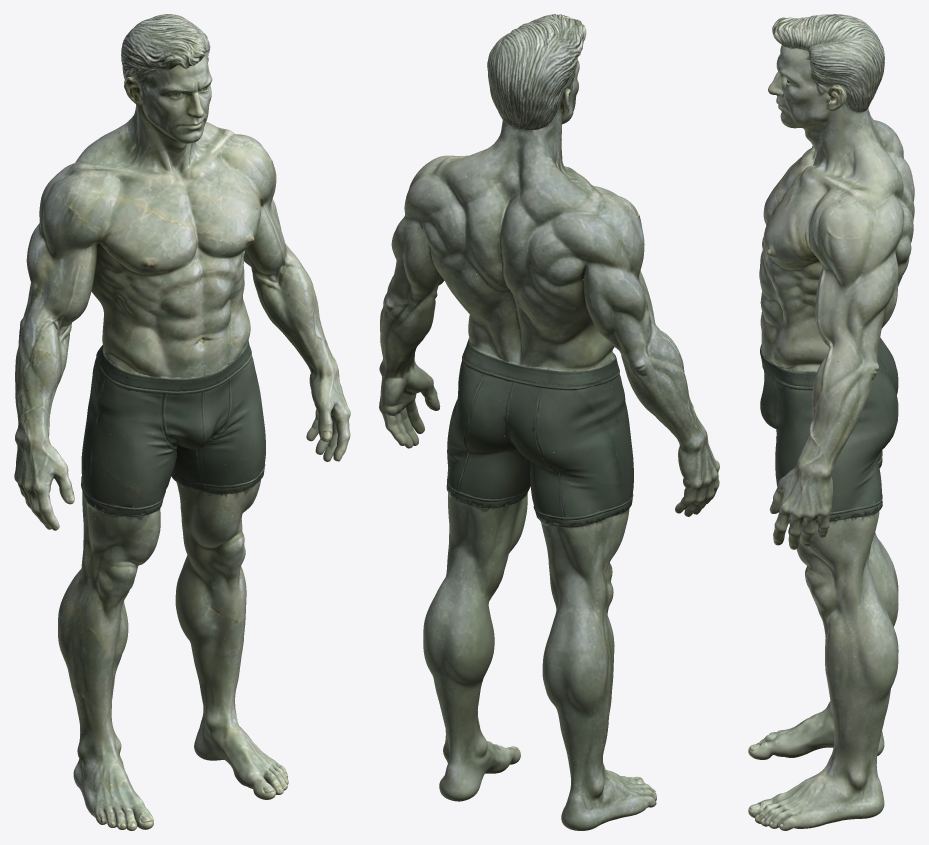
The model's file is adult-male-v4.glb.
3 renders of one model, left to right at view 1: azimuth 30°, elevation 25°; view 2: azimuth 150°, elevation 25°; view 3: azimuth 270°, elevation 25°, orthographic.
Visible parts, largest first — view 1: TeachingBody; view 2: TeachingBody; view 3: TeachingBody.
Part boxes in pixels (x1,y1,x2,y2): TeachingBody: (14,14,350,830); TeachingBody: (379,14,719,830); TeachingBody: (748,14,914,830).
Size of the model in its own units: 0.7868 by 1.78 by 0.3485.
1 material, 1 textured.
